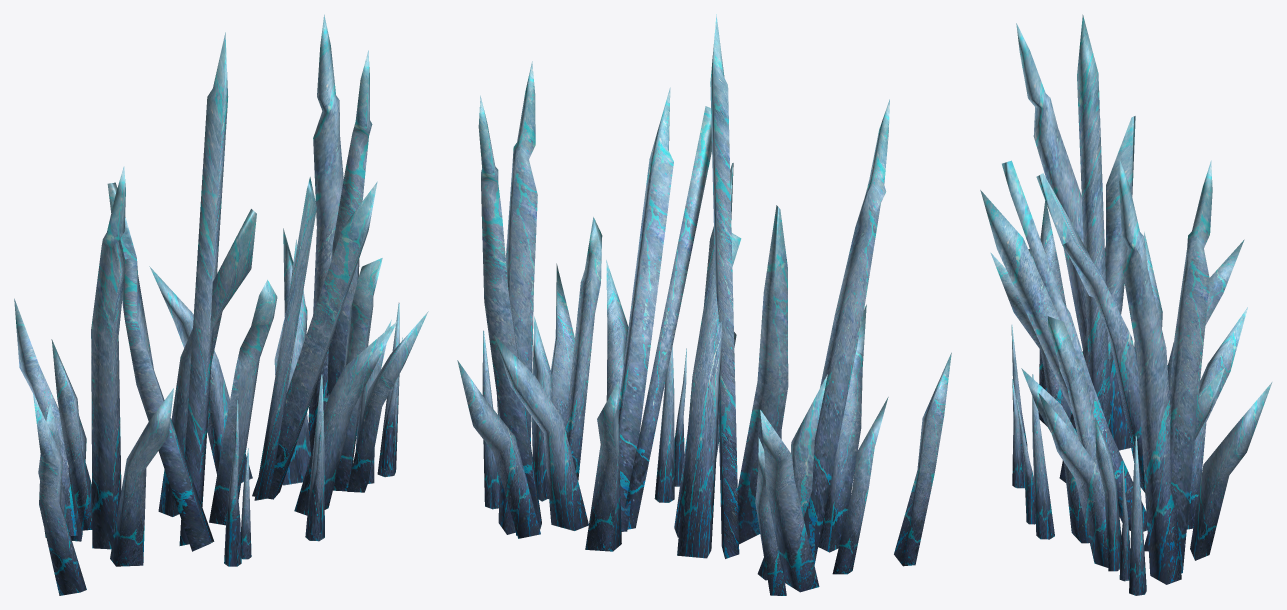
The model's file is ice_pillar_s05.fbx.
The picture shows the model from 3 angles, left to right: view 1: azimuth 30°, elevation 25°; view 2: azimuth 150°, elevation 25°; view 3: azimuth 270°, elevation 25°; orthographic projection. The views are drawn at different scales.
Visible parts, largest first — view 1: ice_pillar_s05; view 2: ice_pillar_s05; view 3: ice_pillar_s05.
Boxes of the visible parts, x1,y1,x2,y2 form: ice_pillar_s05: [14, 14, 428, 595]; ice_pillar_s05: [457, 14, 951, 595]; ice_pillar_s05: [980, 14, 1272, 595].
Bounding box in the file's own units: 11.07 × 13.26 × 7.05.
